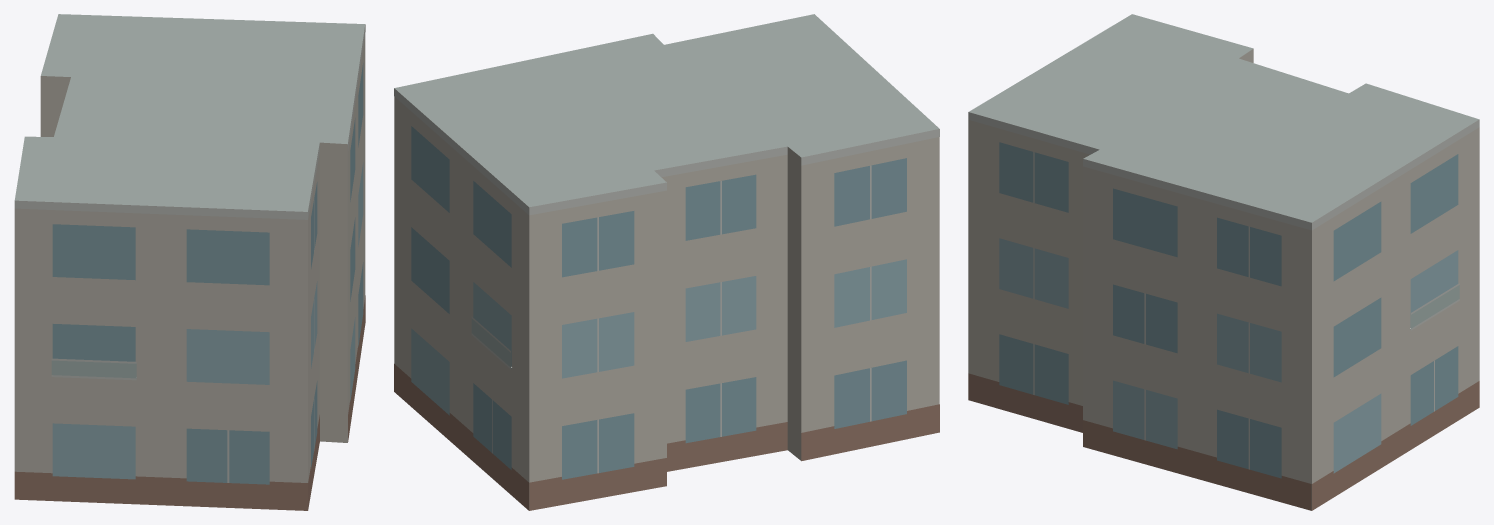
The model's file is survey-upis-32781961.glb.
3 views of the same model, side by side, from view 1: azimuth 30°, elevation 25°; view 2: azimuth 150°, elevation 25°; view 3: azimuth 270°, elevation 25° (orthographic). The views are drawn at different scales.
Visible parts, largest first — view 1: survey-upis-32781961.tmp; view 2: survey-upis-32781961.tmp; view 3: survey-upis-32781961.tmp.
Part boxes in pixels (x1=…): survey-upis-32781961.tmp: x1=14, y1=14, x2=365, y2=510; survey-upis-32781961.tmp: x1=394, y1=14, x2=939, y2=510; survey-upis-32781961.tmp: x1=968, y1=14, x2=1479, y2=510.
Bounding box in the file's own units: 14.23 × 9.15 × 14.72.
